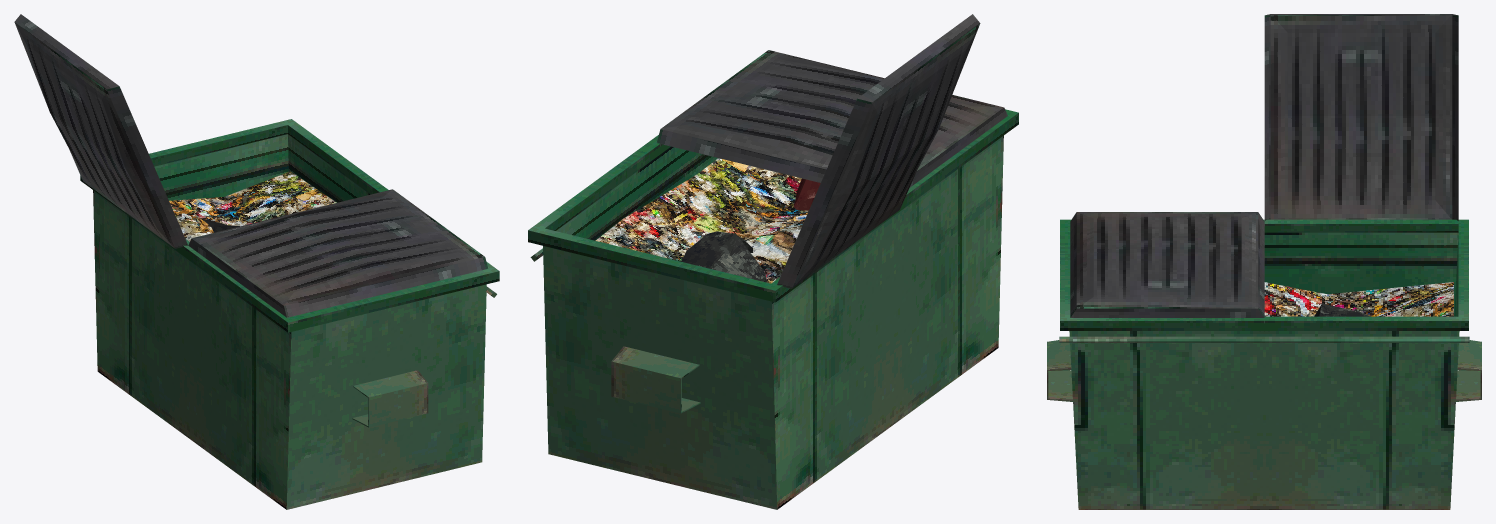
The model's file is dumpster_full_lid_open.glb.
The picture shows the model from 3 angles, left to right: view 1: azimuth 30°, elevation 25°; view 2: azimuth 150°, elevation 25°; view 3: azimuth 270°, elevation 25°; orthographic projection. The views are drawn at different scales.
Visible parts, largest first — view 1: dumpster_full_lid_open; view 2: dumpster_full_lid_open; view 3: dumpster_full_lid_open.
Part boxes in pixels (x1,y1,x2,y2): dumpster_full_lid_open: (14, 14, 499, 509); dumpster_full_lid_open: (528, 14, 1018, 509); dumpster_full_lid_open: (1047, 14, 1481, 509).
Bounding box in the file's own units: 2.74 × 3.41 × 3.67.
Materials: 3 (3 with a texture image).
